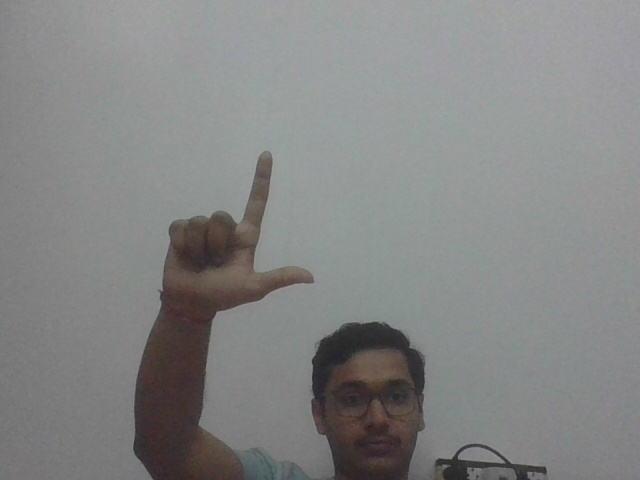L: (155, 144, 319, 309)
